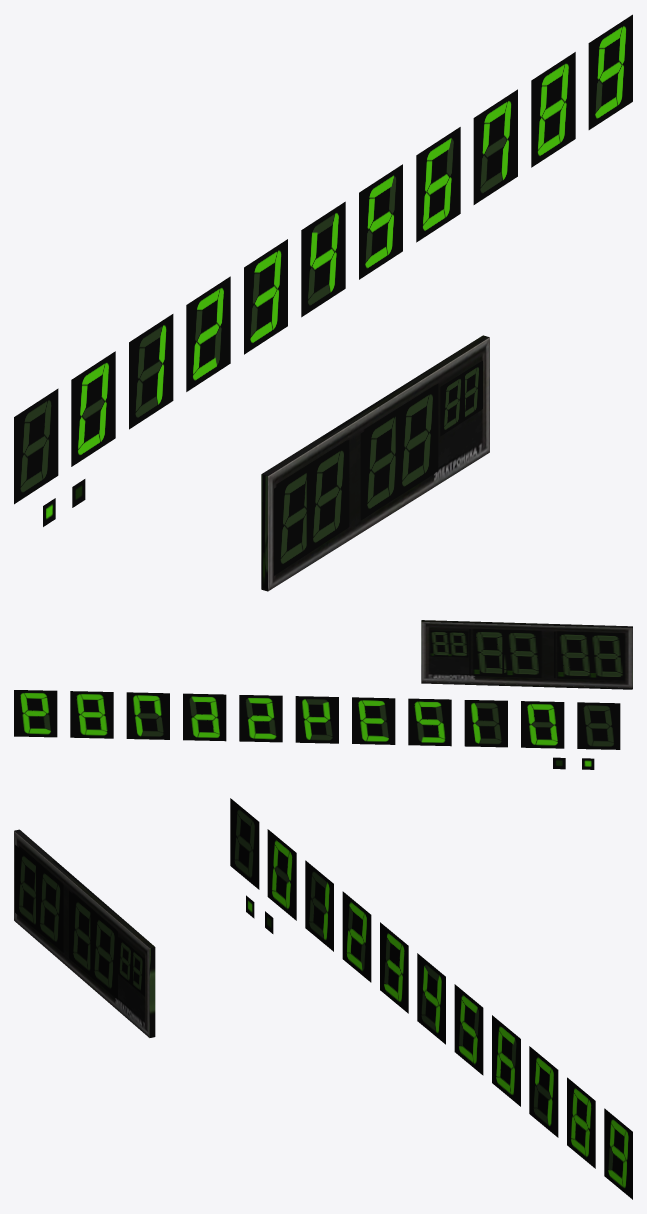
File: Room_Clock.glb
3 renders of one model, top to bottom at view 1: azimuth 30°, elevation 25°; view 2: azimuth 150°, elevation 25°; view 3: azimuth 270°, elevation 25°, orthographic. The views are drawn at different scales.
Visible parts, largest first — view 1: Plane009, Unic_Digit_donor_005, Unic_Digit_donor_0, Unic_Digit_donor_003, Unic_Digit_donor_002, Unic_Digit_donor_off, Unic_Digit_donor_009, Unic_Digit_donor_008, Unic_Digit_donor_007, Unic_Digit_donor_001, Unic_Digit_donor_006, Unic_Digit_donor_004 (+6 smaller); view 2: Plane009, Unic_Digit_donor_009, Unic_Digit_donor_008, Unic_Digit_donor_005, Unic_Digit_donor_004, Unic_Digit_donor_0, Unic_Digit_donor_001, Unic_Digit_donor_003, Unic_Digit_donor_006, Unic_Digit_donor_off, Unic_Digit_donor_002, Unic_Digit_donor_007; view 3: Plane009, Unic_Digit_donor_006, Unic_Digit_donor_003, Unic_Digit_donor_008, Unic_Digit_donor_0, Unic_Digit_donor_001, Unic_Digit_donor_007, Unic_Digit_donor_005, Unic_Digit_donor_004, Unic_Digit_donor_002, Unic_Digit_donor_off, Unic_Digit_donor_009 (+5 smaller).
Part boxes in pixels (<box>): Plane009: <box>261,335,489,591</box>; Unic_Digit_donor_005: <box>301,201,345,317</box>; Unic_Digit_donor_0: <box>14,388,58,504</box>; Unic_Digit_donor_003: <box>186,276,230,391</box>; Unic_Digit_donor_002: <box>129,314,173,429</box>; Unic_Digit_donor_off: <box>588,14,632,129</box>; Unic_Digit_donor_009: <box>531,52,575,167</box>; Unic_Digit_donor_008: <box>473,89,517,204</box>; Unic_Digit_donor_007: <box>416,127,460,242</box>; Unic_Digit_donor_001: <box>71,351,115,466</box>; Unic_Digit_donor_006: <box>359,164,402,279</box>; Unic_Digit_donor_004: <box>244,239,287,354</box>; Plane009: <box>421,620,632,689</box>; Unic_Digit_donor_009: <box>70,691,113,738</box>; Unic_Digit_donor_008: <box>126,692,169,739</box>; Unic_Digit_donor_005: <box>295,696,338,743</box>; Unic_Digit_donor_004: <box>352,697,395,744</box>; Unic_Digit_donor_0: <box>577,702,620,749</box>; Unic_Digit_donor_001: <box>521,701,564,748</box>; Unic_Digit_donor_003: <box>408,698,451,746</box>; Unic_Digit_donor_006: <box>239,695,282,742</box>; Unic_Digit_donor_off: <box>14,690,57,737</box>; Unic_Digit_donor_002: <box>464,700,507,747</box>; Unic_Digit_donor_007: <box>183,693,226,741</box>; Plane009: <box>14,829,155,1037</box>; Unic_Digit_donor_006: <box>454,984,483,1075</box>; Unic_Digit_donor_003: <box>342,891,371,982</box>; Unic_Digit_donor_008: <box>529,1046,558,1137</box>; Unic_Digit_donor_0: <box>230,798,259,889</box>; Unic_Digit_donor_001: <box>267,829,296,920</box>; Unic_Digit_donor_007: <box>492,1015,520,1106</box>; Unic_Digit_donor_005: <box>417,953,445,1044</box>; Unic_Digit_donor_004: <box>380,922,408,1013</box>; Unic_Digit_donor_002: <box>305,860,333,951</box>; Unic_Digit_donor_off: <box>604,1108,632,1199</box>; Unic_Digit_donor_009: <box>567,1077,595,1168</box>.
Bounding box in the file's own units: 1.87 × 0.2872 × 1.46.
14 materials, 14 textured.
